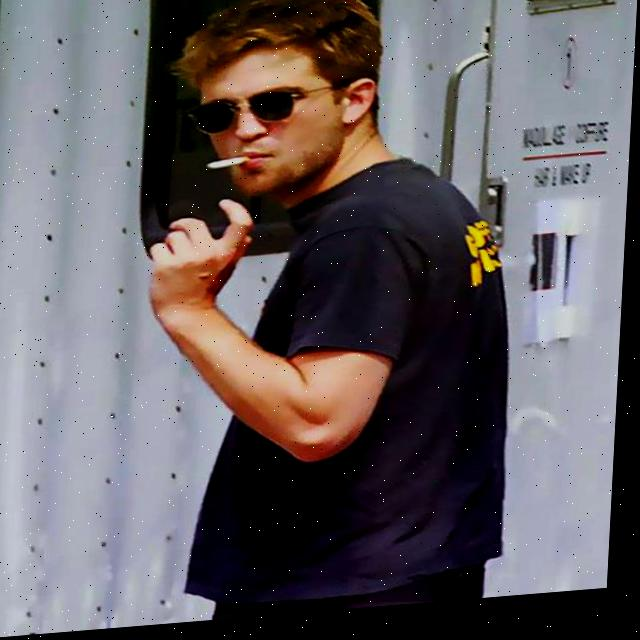cigarette: (208, 158, 253, 174)
